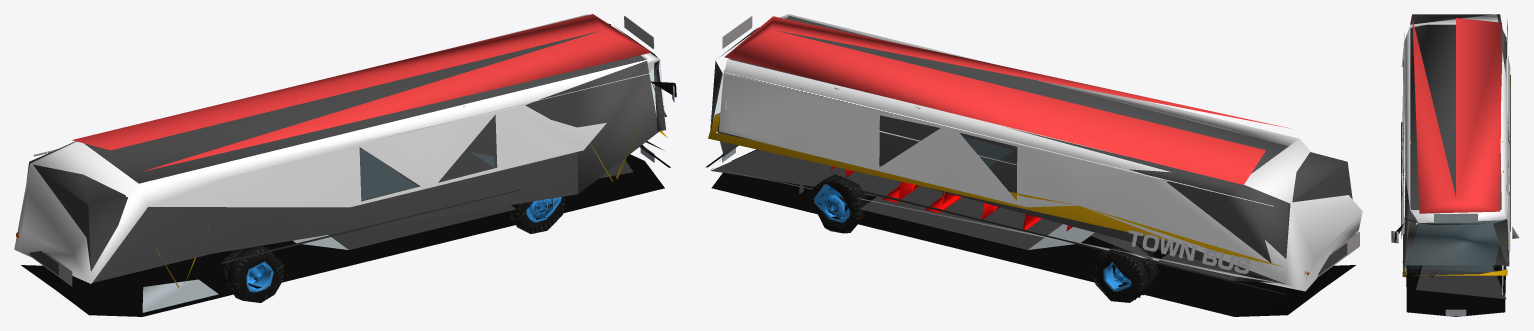
The model's file is xe-buyt.glb.
3 views of the same model, side by side, from view 1: azimuth 30°, elevation 25°; view 2: azimuth 150°, elevation 25°; view 3: azimuth 270°, elevation 25° (orthographic). The views are drawn at different scales.
Visible parts, largest first — view 1: Object_27, Object_25, Object_34, Object_6, Object_22, Object_12, Object_17, Object_16, Object_10, Object_23, Object_28, Object_32; view 2: Object_25, Object_34, Object_27, Object_6, Object_22, Object_33, Object_11, Object_14, Object_23, Object_2, Object_24, Object_32 (+3 smaller); view 3: Object_34, Object_27, Object_16, Object_25, Object_22, Object_6, Object_23, Object_5, Object_3, Object_32, Object_18, Object_33 (+2 smaller).
Boxes of the visible parts, bbox=[...] form: Object_27: bbox=[26, 30, 658, 282]; Object_25: bbox=[14, 14, 660, 283]; Object_34: bbox=[72, 14, 651, 171]; Object_6: bbox=[21, 154, 664, 316]; Object_22: bbox=[328, 141, 664, 249]; Object_12: bbox=[227, 245, 283, 302]; Object_17: bbox=[142, 235, 348, 312]; Object_16: bbox=[360, 55, 664, 199]; Object_10: bbox=[510, 196, 565, 233]; Object_23: bbox=[221, 23, 665, 263]; Object_28: bbox=[29, 215, 284, 275]; Object_32: bbox=[33, 73, 651, 186]; Object_25: bbox=[719, 14, 1362, 291]; Object_34: bbox=[724, 16, 1290, 184]; Object_27: bbox=[717, 16, 1352, 281]; Object_6: bbox=[711, 149, 1355, 316]; Object_22: bbox=[710, 132, 1282, 283]; Object_33: bbox=[708, 113, 1283, 266]; Object_11: bbox=[810, 174, 867, 233]; Object_14: bbox=[1092, 246, 1149, 302]; Object_23: bbox=[710, 27, 1285, 294]; Object_2: bbox=[1128, 230, 1249, 273]; Object_24: bbox=[831, 166, 1072, 230]; Object_32: bbox=[725, 71, 1273, 206]; Object_34: bbox=[1412, 18, 1501, 213]; Object_27: bbox=[1403, 14, 1508, 267]; Object_16: bbox=[1405, 219, 1503, 272]; Object_25: bbox=[1401, 14, 1510, 294]; Object_22: bbox=[1416, 131, 1509, 299]; Object_6: bbox=[1402, 148, 1505, 316]; Object_23: bbox=[1401, 75, 1510, 271]; Object_5: bbox=[1434, 213, 1478, 222]; Object_3: bbox=[1434, 214, 1477, 222]; Object_32: bbox=[1404, 18, 1507, 217]; Object_18: bbox=[1391, 226, 1519, 316]; Object_33: bbox=[1413, 75, 1510, 275].
Size of the model in its own units: 0.9938 by 0.2436 by 0.2437.
Materials: 16 (2 with a texture image).
